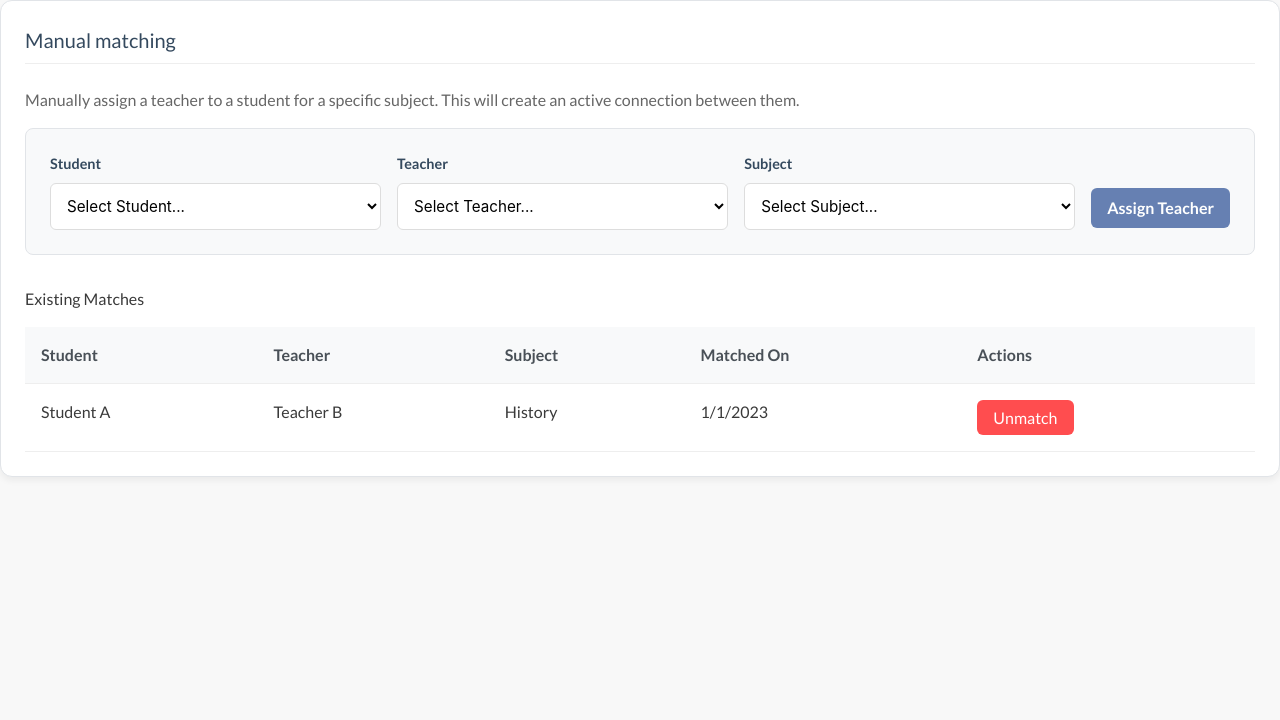
Test: ManualMatchingTab › shows validation error when fields are empty
Step 1. Click the button "Assign Teacher" → (1161, 208), box [1091,188,1230,228]
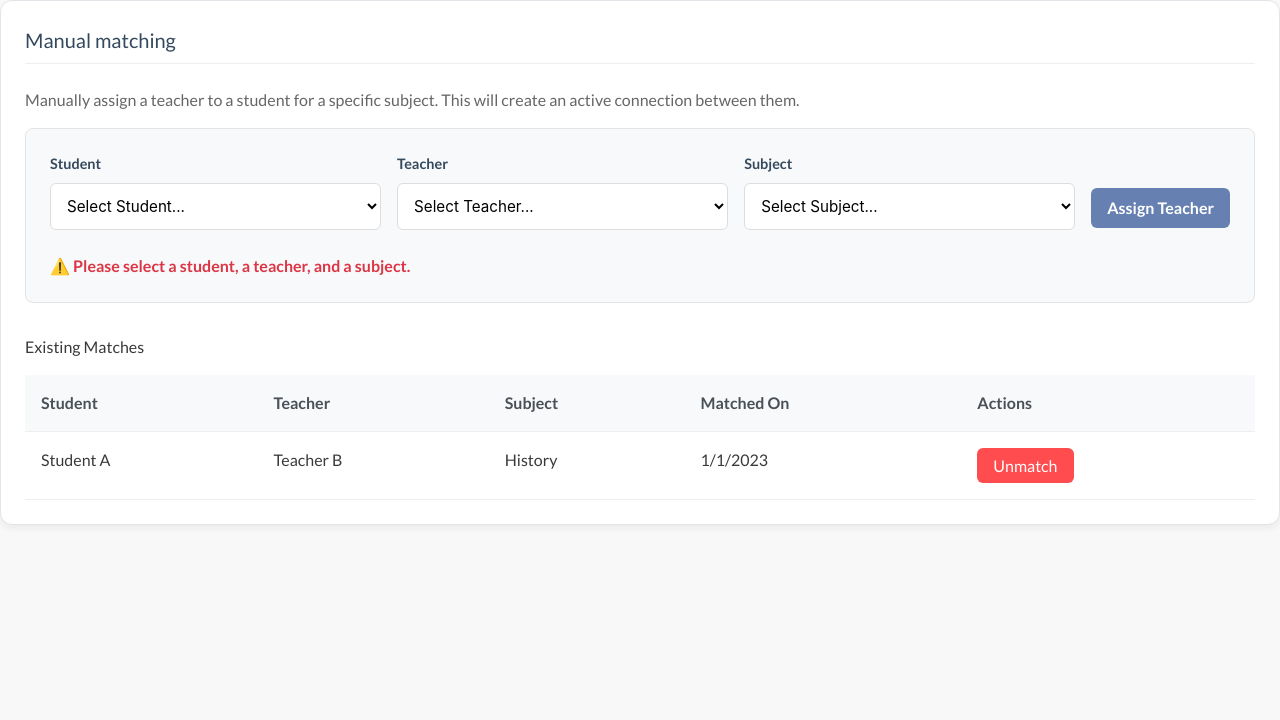
Now the text "⚠️ Please select a student, a teacher, and a subject." is shown, box [50,256,410,275]
